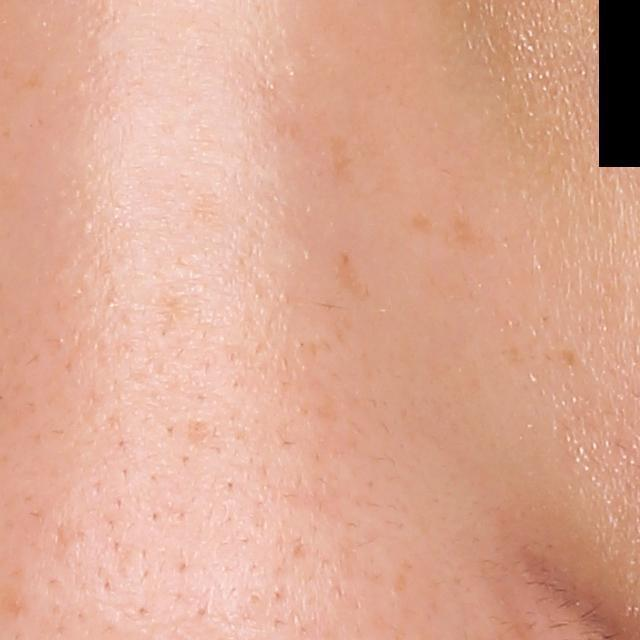melasma: (442, 207, 497, 258), (336, 252, 369, 301), (328, 133, 358, 180), (409, 207, 439, 237), (553, 348, 582, 372)
